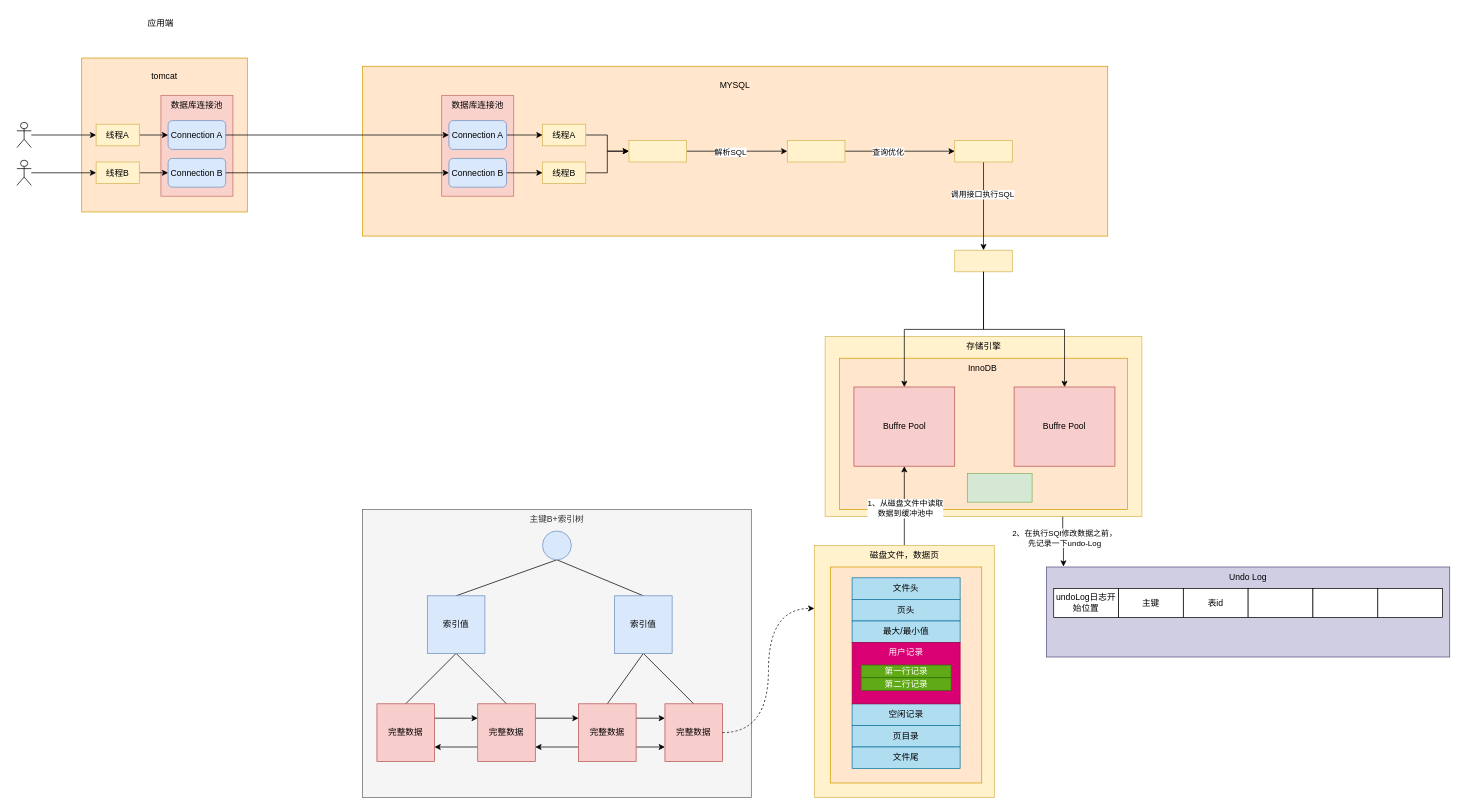
Image size: 1462x810. Some labels were removed from this diagram. The shapes that lost their labels are listed below. From the top down, each one's centre as x and y in pixels, then its label:
the point at 23,135: 用户A
the point at 657,151: SQL接口
the point at 816,151: SQL解析器
the point at 983,151: 查询优化器
the point at 23,172: 用户B
the point at 983,260: 执行器
the point at 556,545: ROOT
